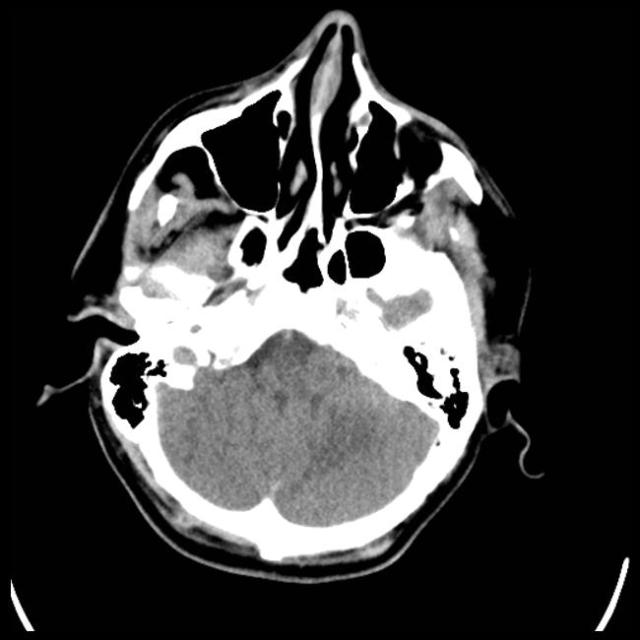lesion: (46, 9, 542, 585)
